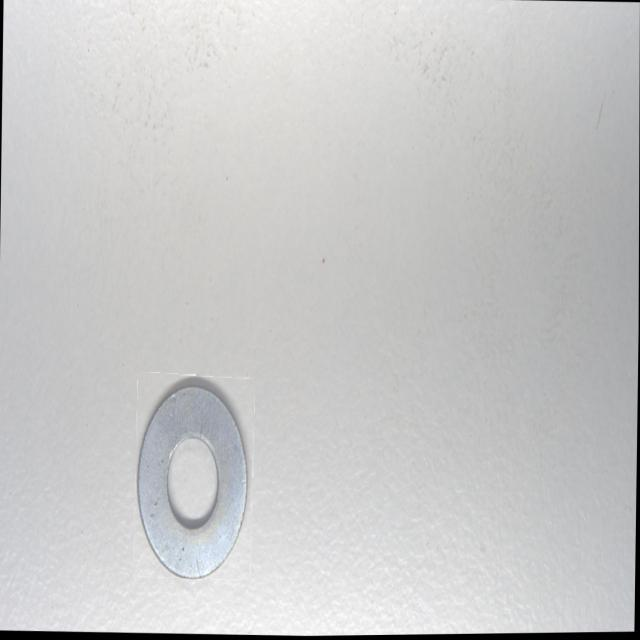washer: (136, 375, 253, 578)
